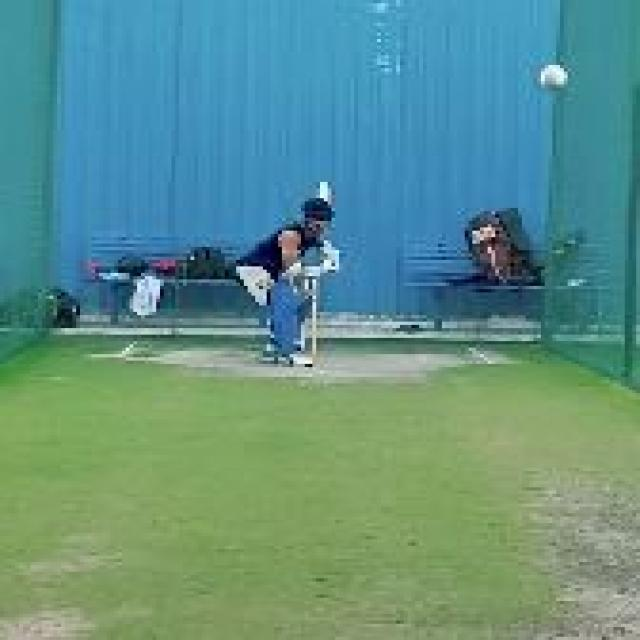ball: (530, 60, 568, 99)
